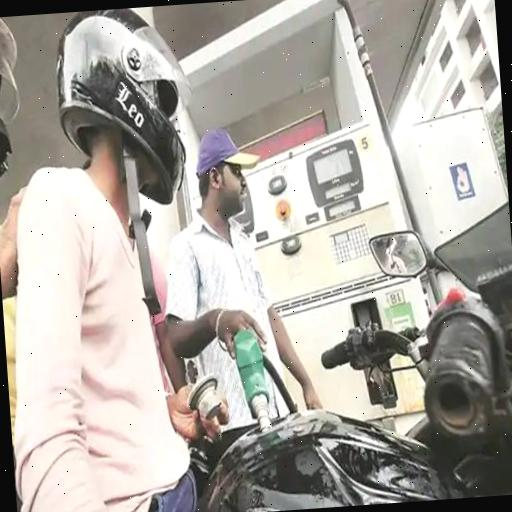helmet: (16, 9, 247, 512)
